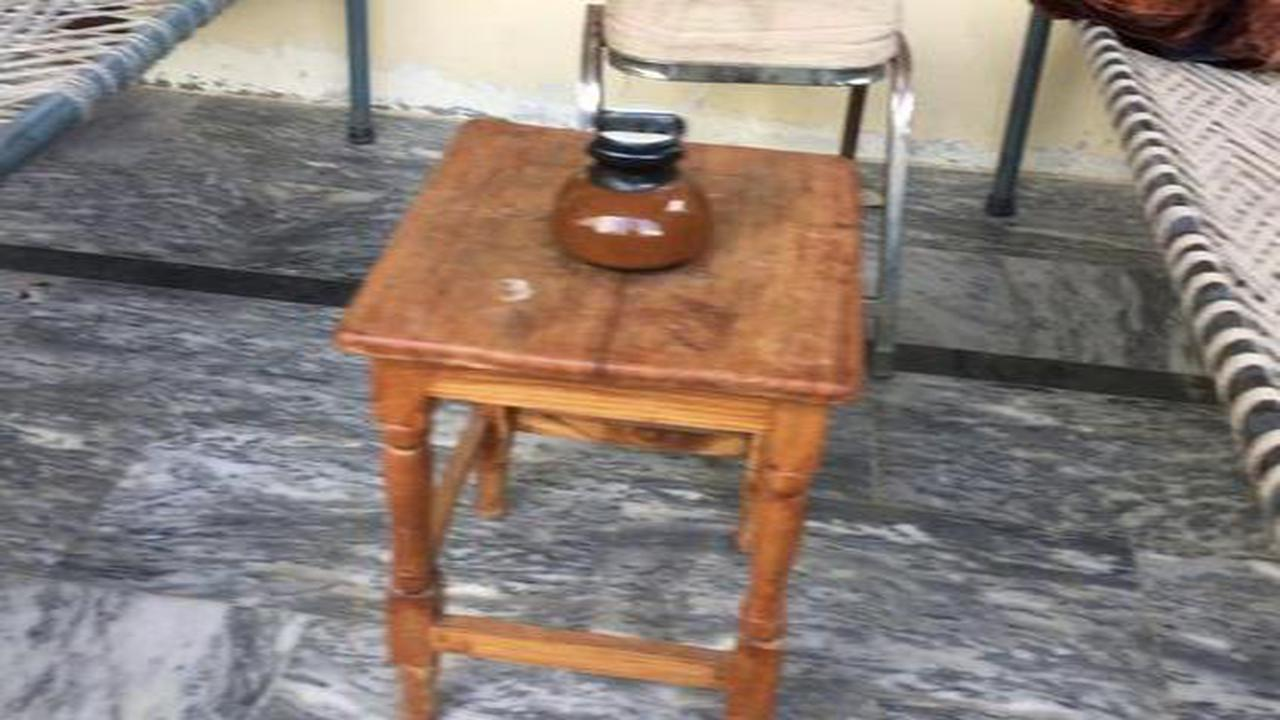insulator_pin: (533, 97, 733, 288)
